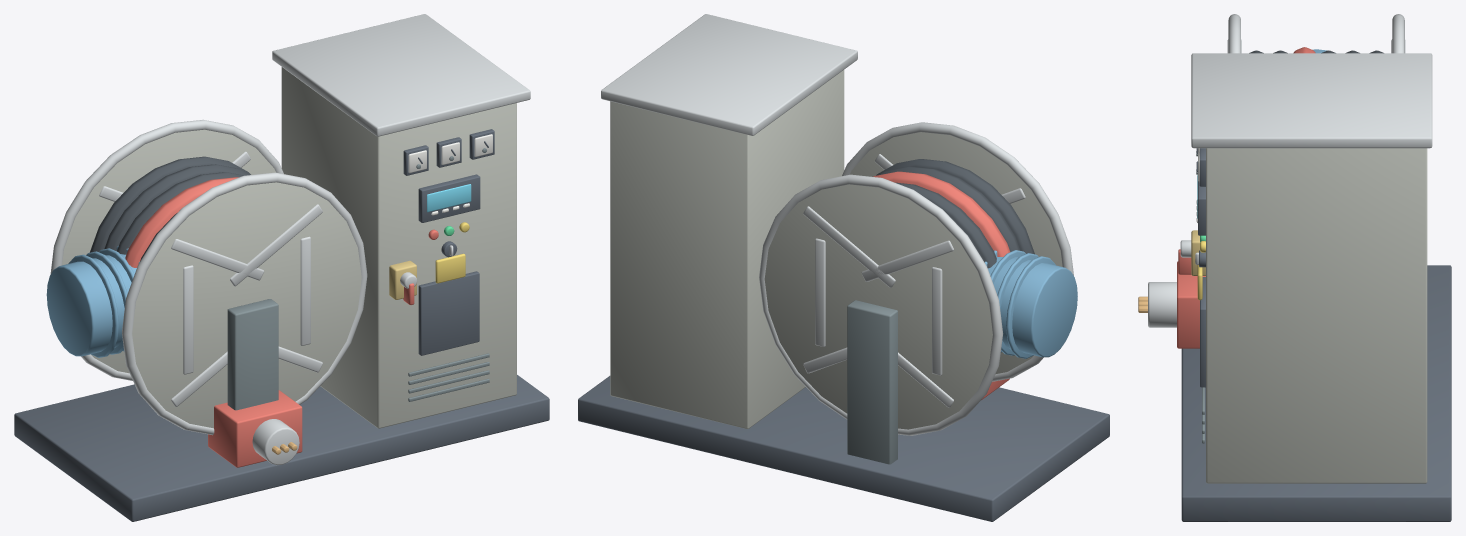
The model's file is shore_power_reel.glb.
The picture shows the model from 3 angles, left to right: view 1: azimuth 30°, elevation 25°; view 2: azimuth 150°, elevation 25°; view 3: azimuth 270°, elevation 25°; orthographic projection. The views are drawn at different scales.
Visible parts, largest first — view 1: Junction_Box, Cable_Reel_Drum__PebbleGrey, HV_Connector_Plug, Junction_Box__Steel, Cable_Reel_Drum__Steel, Motorized_Drive, Junction_Box__DarkPlinth, HV_Flexible_Cable, HV_Connector_Plug__Iron, HV_Connector_Plug__StatusRed, HV_Flexible_Cable__StatusRed, Junction_Box__Iron (+5 smaller); view 2: Junction_Box, Cable_Reel_Drum__PebbleGrey, HV_Connector_Plug, Junction_Box__Steel, Cable_Reel_Drum__Steel, HV_Connector_Plug__Iron, Motorized_Drive, HV_Flexible_Cable, HV_Flexible_Cable__StatusRed; view 3: Junction_Box, Junction_Box__Steel, HV_Connector_Plug, HV_Connector_Plug__StatusRed, Junction_Box__DarkPlinth, HV_Connector_Plug__Steel, Cable_Reel_Drum__Steel, Mechanical_Interlock_Pin.
Boxes of the visible parts, x1=… form: Junction_Box: x1=281, y1=67, x2=516, y2=428; Cable_Reel_Drum__PebbleGrey: x1=62, y1=129, x2=361, y2=428; HV_Connector_Plug: x1=14, y1=375, x2=549, y2=521; Junction_Box__Steel: x1=272, y1=14, x2=530, y2=256; Cable_Reel_Drum__Steel: x1=50, y1=119, x2=367, y2=435; Motorized_Drive: x1=46, y1=246, x2=139, y2=357; Junction_Box__DarkPlinth: x1=403, y1=129, x2=494, y2=355; HV_Flexible_Cable: x1=90, y1=156, x2=250, y2=261; HV_Connector_Plug__Iron: x1=227, y1=299, x2=278, y2=410; HV_Connector_Plug__StatusRed: x1=208, y1=390, x2=302, y2=467; HV_Flexible_Cable__StatusRed: x1=125, y1=177, x2=238, y2=267; Junction_Box__Iron: x1=408, y1=148, x2=489, y2=401; Junction_Box: x1=610, y1=70, x2=844, y2=428; Cable_Reel_Drum__PebbleGrey: x1=764, y1=132, x2=1062, y2=429; HV_Connector_Plug: x1=578, y1=376, x2=1109, y2=521; Junction_Box__Steel: x1=601, y1=14, x2=857, y2=135; Cable_Reel_Drum__Steel: x1=759, y1=122, x2=1073, y2=435; HV_Connector_Plug__Iron: x1=847, y1=300, x2=897, y2=464; Motorized_Drive: x1=985, y1=250, x2=1077, y2=358; HV_Flexible_Cable: x1=876, y1=159, x2=1034, y2=268; HV_Flexible_Cable__StatusRed: x1=873, y1=171, x2=1010, y2=256; Junction_Box: x1=1206, y1=148, x2=1427, y2=483; Junction_Box__Steel: x1=1191, y1=53, x2=1432, y2=264; HV_Connector_Plug: x1=1181, y1=265, x2=1451, y2=521; HV_Connector_Plug__StatusRed: x1=1177, y1=261, x2=1205, y2=348; Junction_Box__DarkPlinth: x1=1196, y1=148, x2=1205, y2=387; HV_Connector_Plug__Steel: x1=1148, y1=282, x2=1176, y2=327; Cable_Reel_Drum__Steel: x1=1227, y1=14, x2=1405, y2=53; Mechanical_Interlock_Pin: x1=1191, y1=230, x2=1205, y2=275.
Bounding box in the file's own units: 1.15 × 0.8625 × 0.65.
